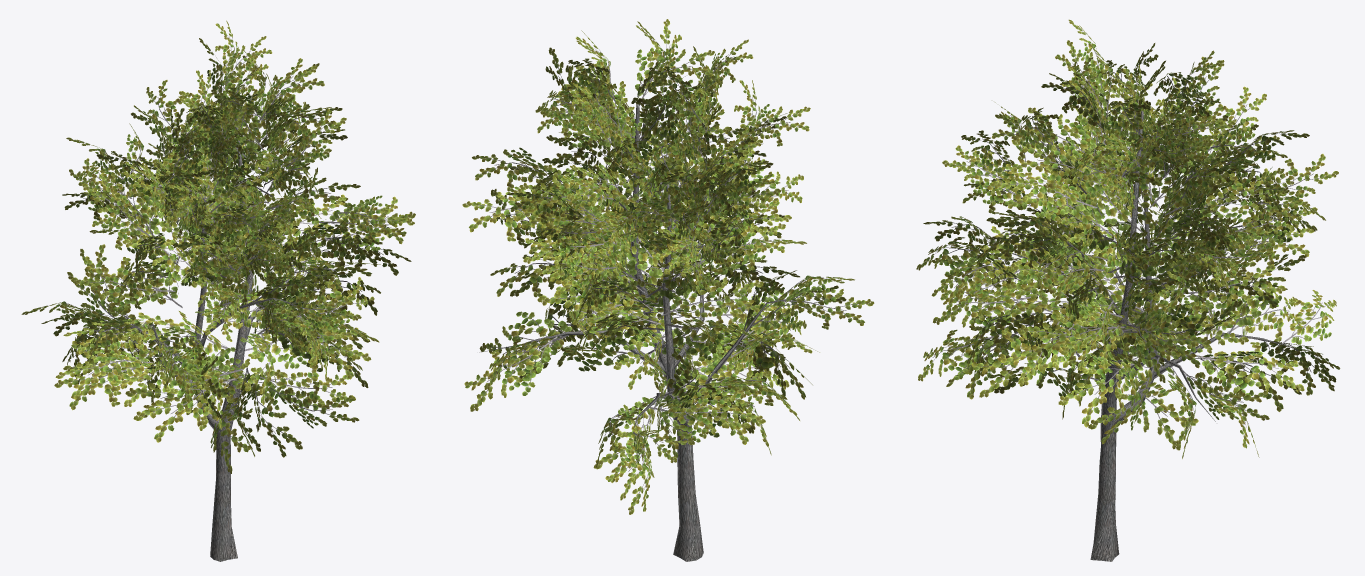
Rendered from European_Linden_LowPoly.fbx.
3 views of the same model, side by side, from view 1: azimuth 30°, elevation 25°; view 2: azimuth 150°, elevation 25°; view 3: azimuth 270°, elevation 25° (orthographic). The views are drawn at different scales.
Visible parts, largest first — view 1: EuropeanLinden_Mobile_14; view 2: EuropeanLinden_Mobile_14; view 3: EuropeanLinden_Mobile_14.
Boxes of the visible parts, left/top/right/bottom form: EuropeanLinden_Mobile_14: left=21, top=20, right=415, bottom=561; EuropeanLinden_Mobile_14: left=462, top=19, right=874, bottom=561; EuropeanLinden_Mobile_14: left=916, top=19, right=1340, bottom=561.
Size of the model in its own units: 2.21 by 2.99 by 2.24.
Materials: 3 (3 with a texture image).
